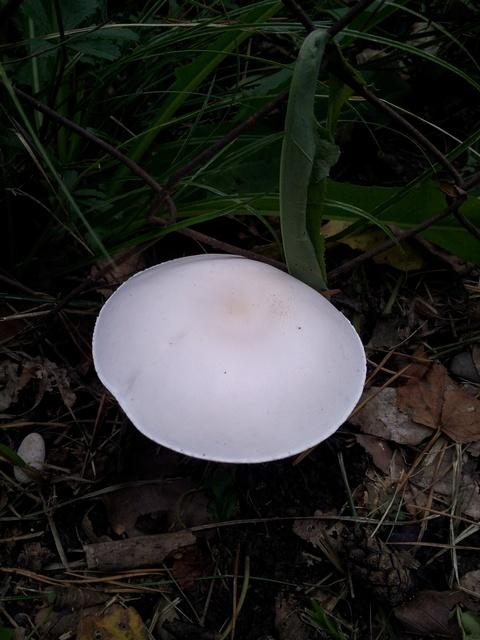Non-edible Mushroom: (90, 251, 368, 465)
